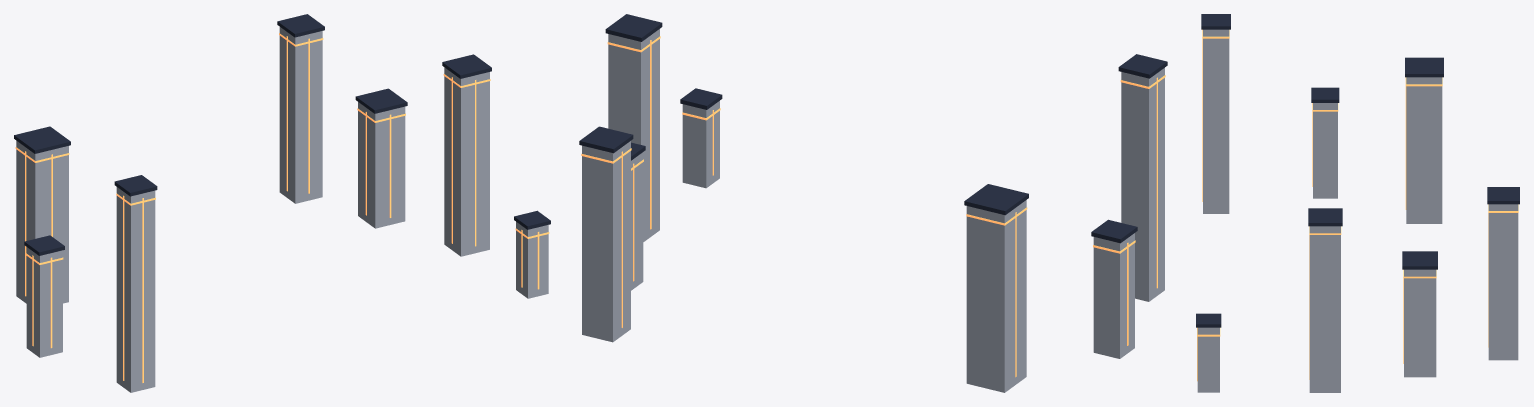
3 views of the same model, side by side, from view 1: azimuth 30°, elevation 25°; view 2: azimuth 150°, elevation 25°; view 3: azimuth 270°, elevation 25° (orthographic). The views are drawn at different scales.
Visible parts, largest first — view 1: nexo_spires_vertical.lod1; view 2: nexo_spires_vertical.lod1; view 3: nexo_spires_vertical.lod1.
Boxes of the visible parts, left/top/right/bottom form: nexo_spires_vertical.lod1: left=14, top=14, right=550, bottom=392; nexo_spires_vertical.lod1: left=579, top=14, right=1167, bottom=392; nexo_spires_vertical.lod1: left=1196, top=14, right=1519, bottom=392.
Bounding box in the file's own units: 26.37 × 11.22 × 17.49.
